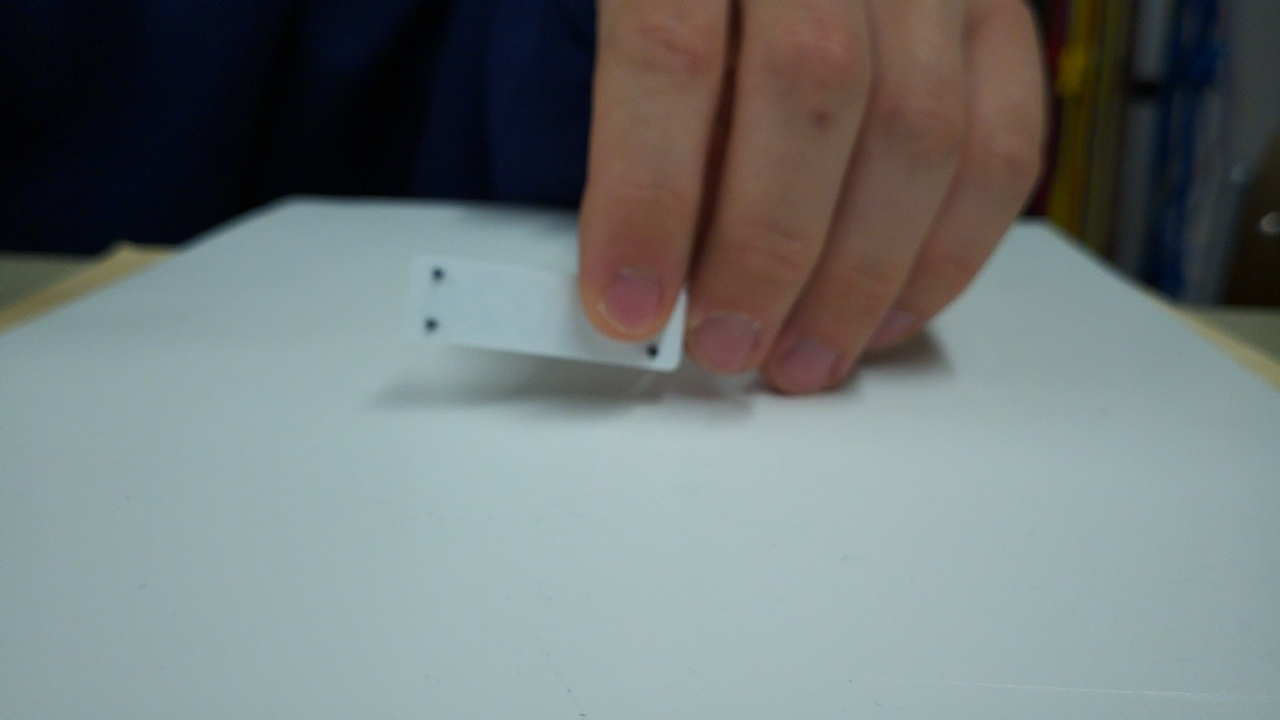license_plate: (403, 249, 690, 374)
